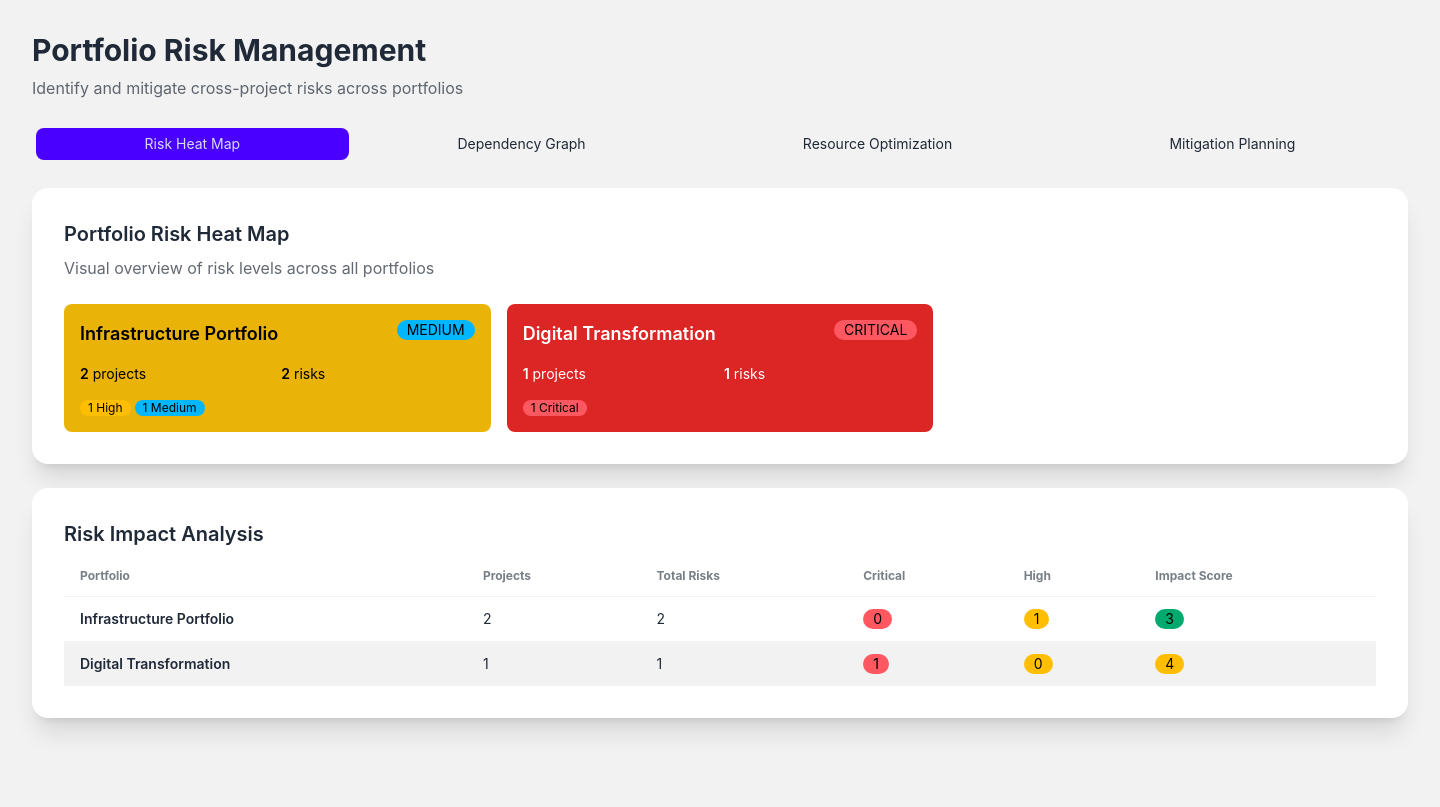
PortfolioRiskManagement › switches to mitigation planning tab
Click the button "Mitigation Planning": (1232, 144) [1061,128,1404,160]
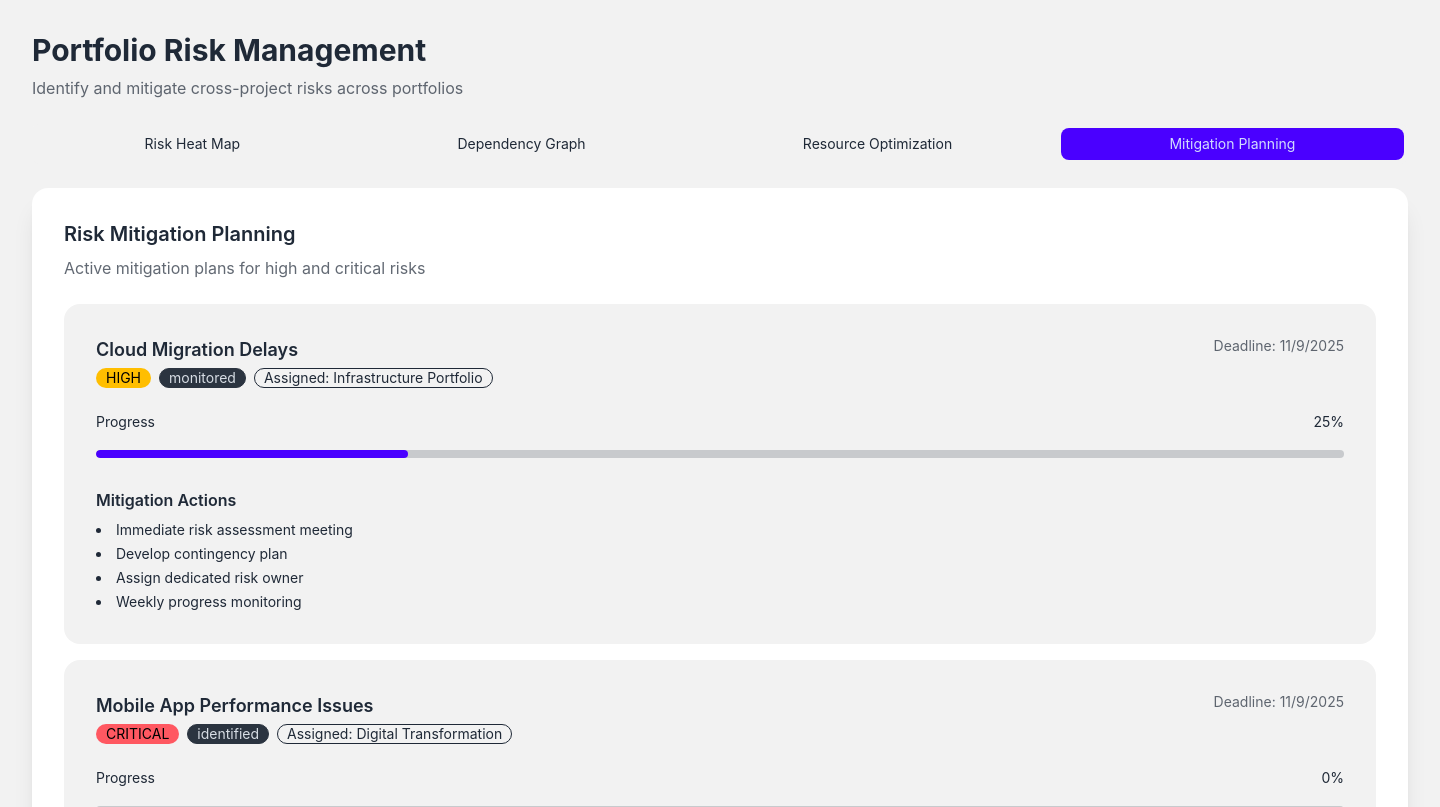
Now the heading "Risk Mitigation Planning" is shown, box [64,222,296,246]
Now the heading "Cloud Migration Delays" is shown, box [96,339,298,360]
Now the heading "Mobile App Performance Issues" is shown, box [96,695,374,716]
